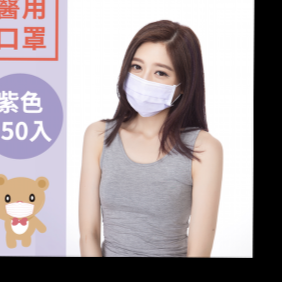with_mask: (122, 54, 182, 117)
